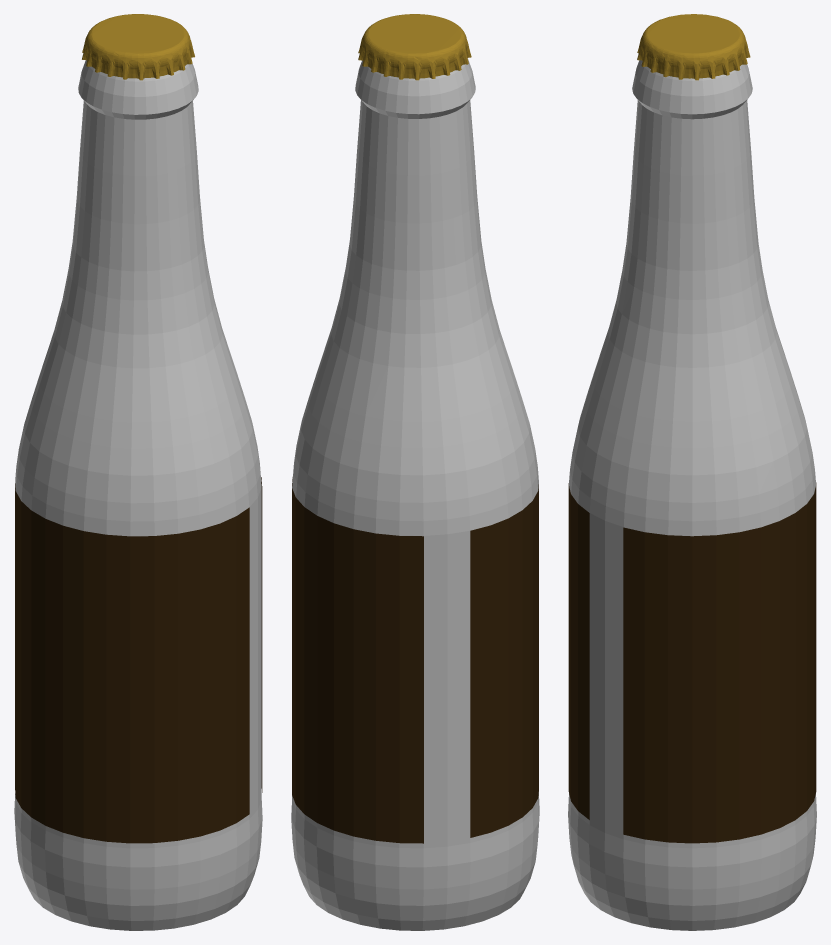
The model's file is beerbottle_belgian.obj.
The picture shows the model from 3 angles, left to right: view 1: azimuth 30°, elevation 25°; view 2: azimuth 150°, elevation 25°; view 3: azimuth 270°, elevation 25°; orthographic projection.
Parts seen in each view (by area): view 1: bottle_Cylinder, cap_Cylinder.001; view 2: bottle_Cylinder, cap_Cylinder.001; view 3: bottle_Cylinder, cap_Cylinder.001.
Part boxes in pixels (x1=…): bottle_Cylinder: x1=14, y1=60, x2=262, y2=930; cap_Cylinder.001: x1=82, y1=14, x2=194, y2=80; bottle_Cylinder: x1=291, y1=58, x2=539, y2=930; cap_Cylinder.001: x1=358, y1=14, x2=471, y2=80; bottle_Cylinder: x1=568, y1=60, x2=816, y2=930; cap_Cylinder.001: x1=637, y1=14, x2=750, y2=80.
Bounding box in the file's own units: 0.0677 × 0.2554 × 0.0677.
